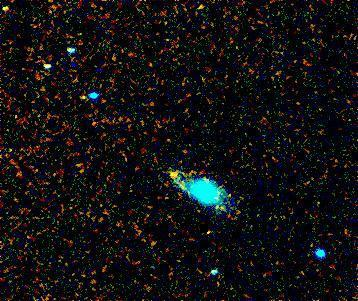star: (158, 159, 188, 189)
